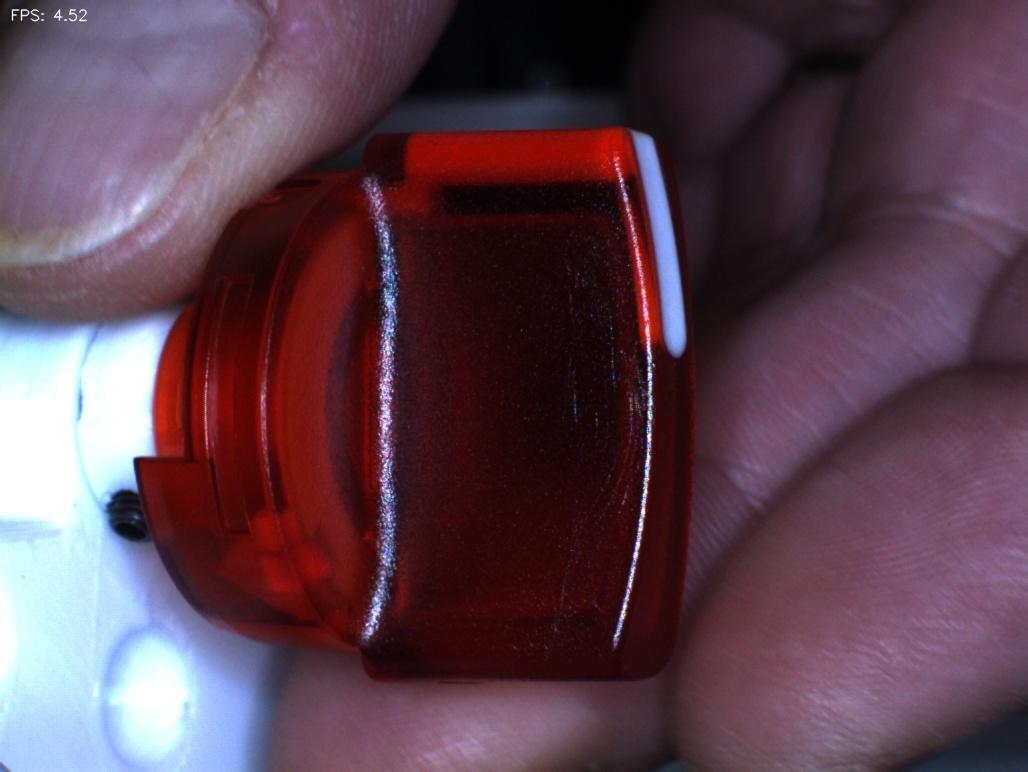Givrage: (555, 259, 645, 514)
